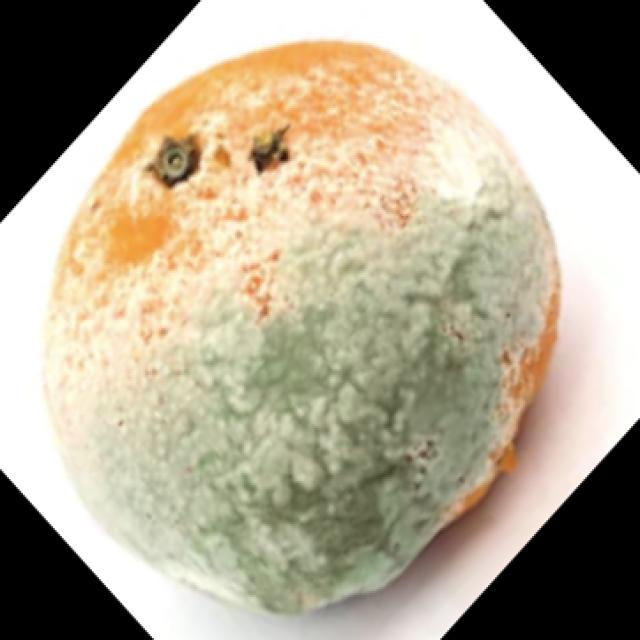sangat_busuk: (39, 38, 559, 618)
